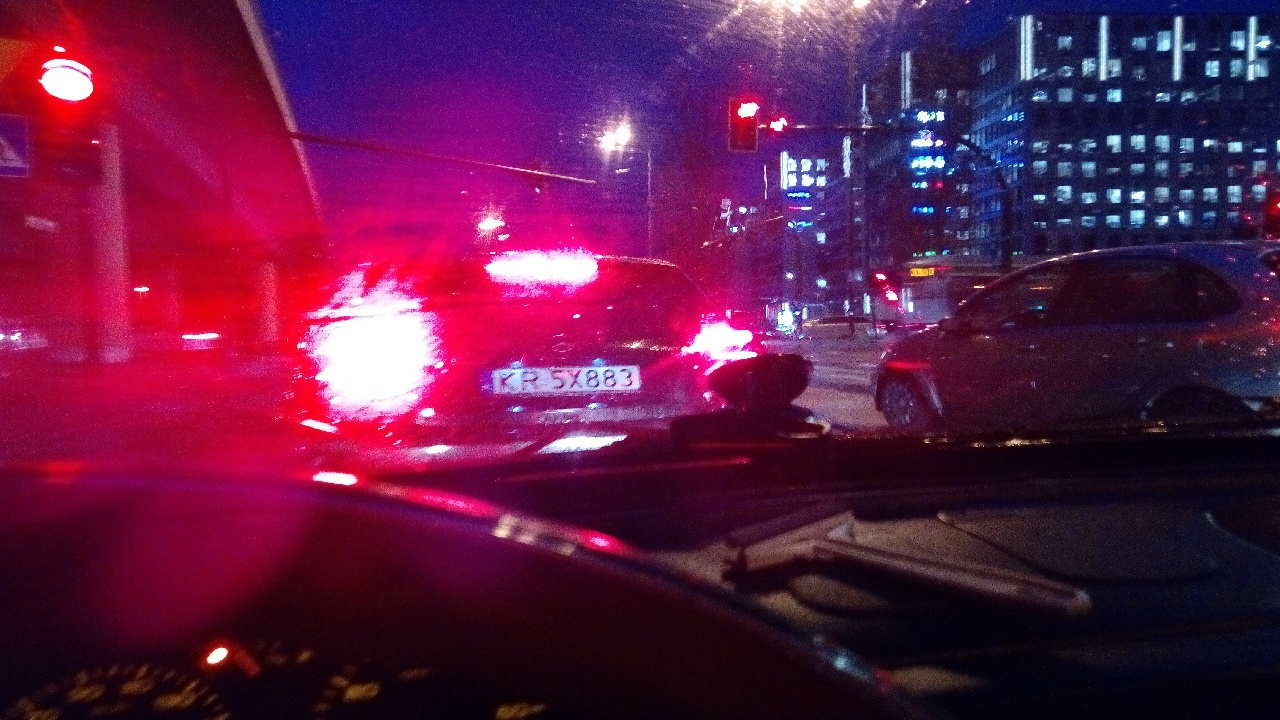Red: (737, 101, 755, 147)
